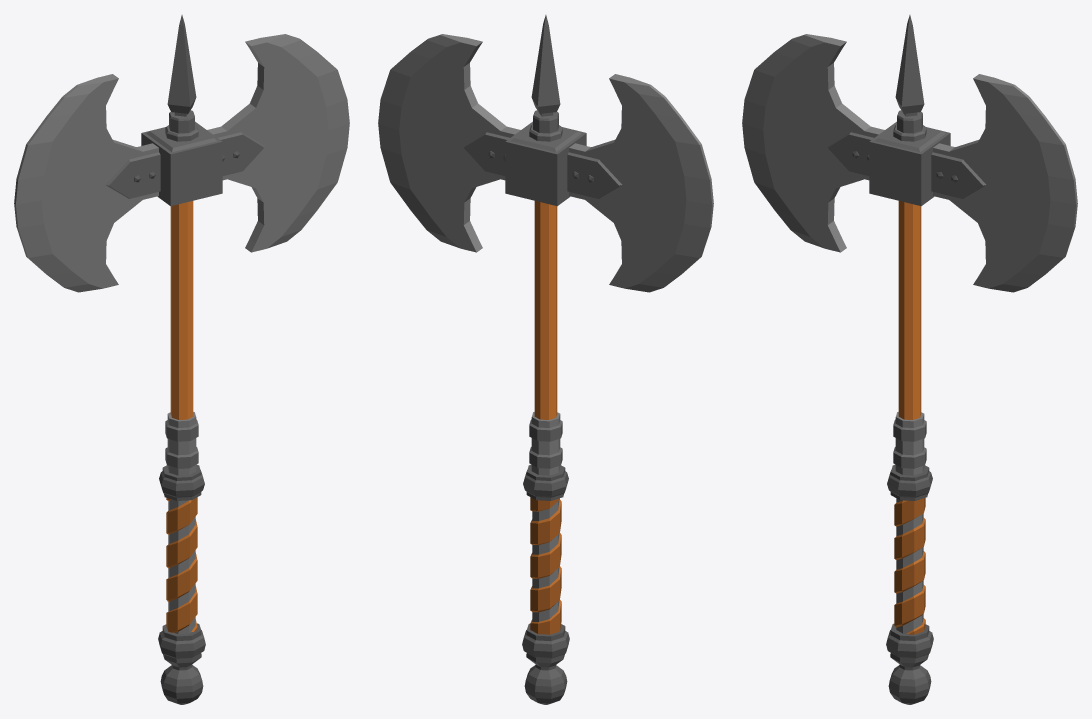
The model's file is axe_2.fbx.
3 views of the same model, side by side, from view 1: azimuth 30°, elevation 25°; view 2: azimuth 150°, elevation 25°; view 3: azimuth 330°, elevation 25° (orthographic).
Visible parts, largest first — view 1: Axe; view 2: Axe; view 3: Axe.
Part boxes in pixels (x1=…): Axe: x1=14, y1=15, x2=349, y2=704; Axe: x1=378, y1=15, x2=713, y2=704; Axe: x1=742, y1=15, x2=1077, y2=704.
Size of the model in its own units: 90.88 by 179 by 13.83.
